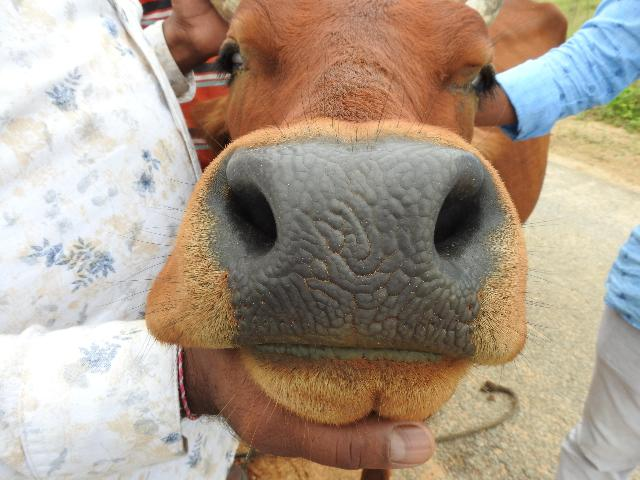Muzzle: (226, 146, 468, 362)
